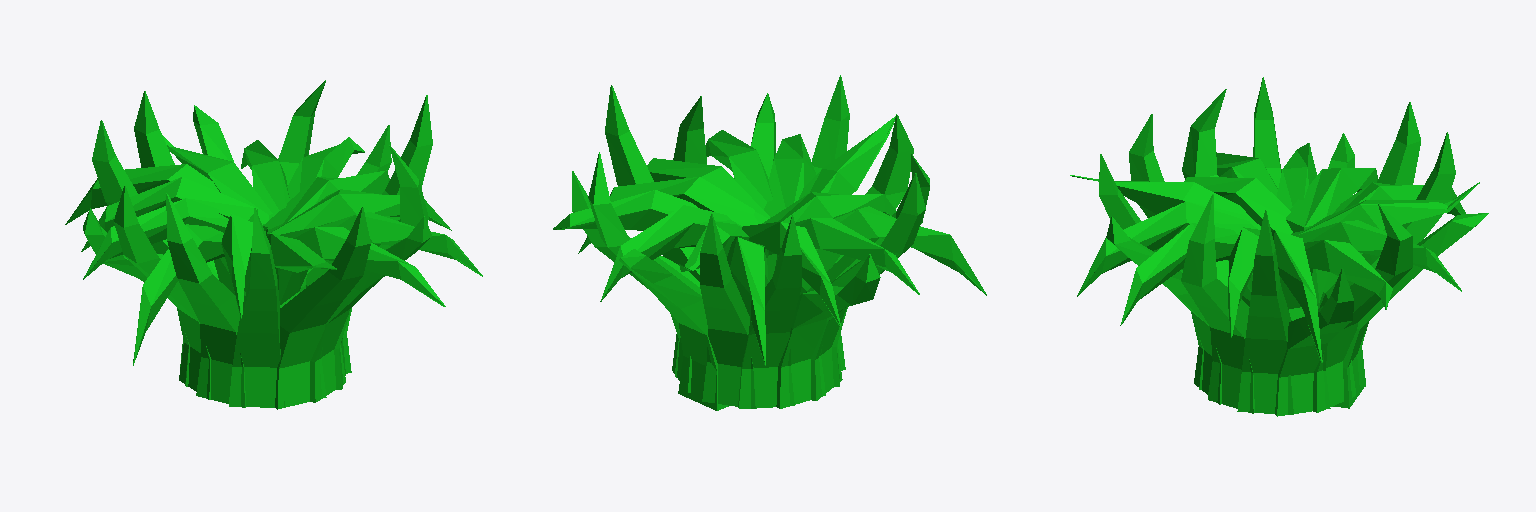
The model's file is grass.obj.
3 renders of one model, left to right at view 1: azimuth 30°, elevation 25°; view 2: azimuth 150°, elevation 25°; view 3: azimuth 270°, elevation 25°, orthographic.
Visible parts, largest first — view 1: Cube_Cube.001; view 2: Cube_Cube.001; view 3: Cube_Cube.001.
Boxes of the visible parts, box(x1,y1,x2,y2) form: Cube_Cube.001: box(65, 80, 482, 409); Cube_Cube.001: box(553, 75, 986, 410); Cube_Cube.001: box(1070, 77, 1488, 416).
Bounding box in the file's own units: 2.29 × 1.61 × 2.43.